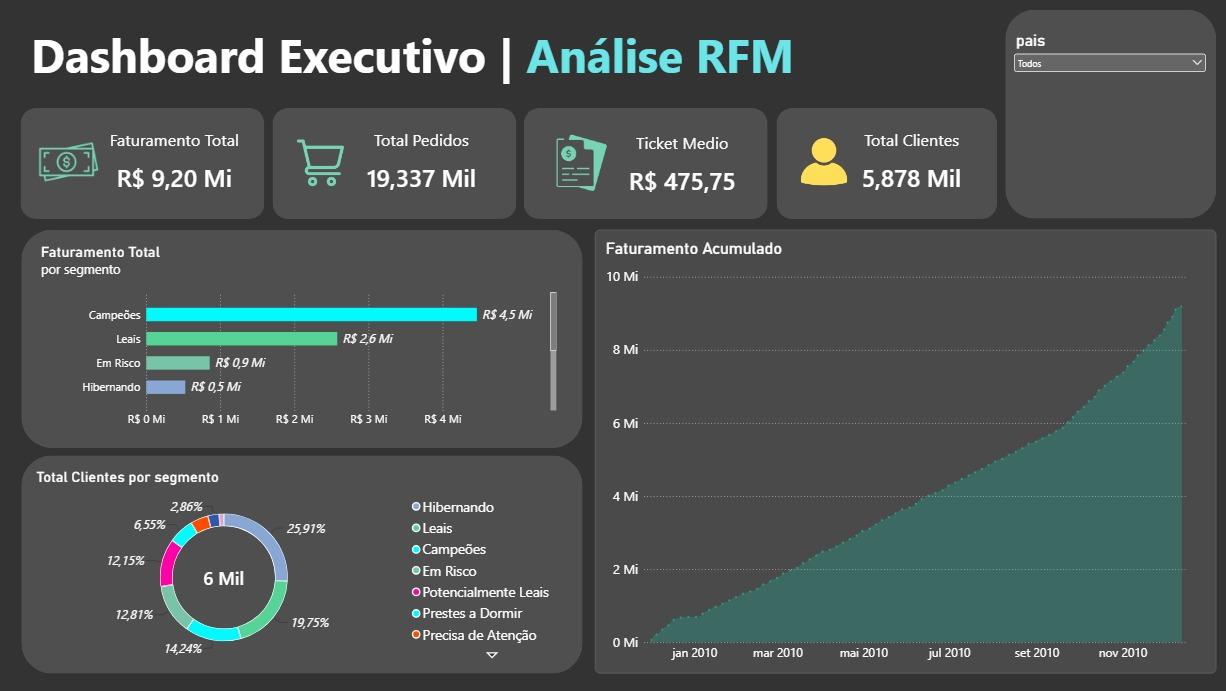

The page's visual inventory and layout, read from the dashboard file:
{"tool":"powerbi","page":{"name":"Página 1","canvas":[1920,1080],"ordinal":0},"visuals":[{"type":"shape","box":[35,168.3,381.7,173.3],"z":0},{"type":"cardVisual","fields":{"Data":["_Medidas.Faturamento Total"]},"box":[95,165,361.7,176.7],"z":1000},{"type":"image","box":[50,165,120,176.7],"z":2000},{"type":"shape","box":[1573.3,15,330,326.7],"z":3000},{"type":"shape","box":[428.3,168.3,381.7,173.3],"z":4000},{"type":"shape","box":[821.7,168.3,381.7,173.3],"z":5000},{"type":"shape","box":[1216.7,168.3,345,173.3],"z":6000},{"type":"lineChart","title":"Faturamento Acumulado","fields":{"Category":["db_ecommerce vw_vendas_temporais.data_venda"],"Y":["_Medidas.Faturamento Acumulado"]},"box":[932.1,358.5,971.7,694.3],"z":7000},{"type":"image","box":[428.3,186.7,150,136.7],"z":8000},{"type":"cardVisual","fields":{"Data":["_Medidas.Total Pedidos"]},"box":[481.7,165,361.7,176.7],"z":9000},{"type":"cardVisual","fields":{"Data":["_Medidas.Ticket Medio"]},"box":[888.3,168.3,361.7,176.7],"z":10000},{"type":"cardVisual","fields":{"Data":["_Medidas.Total Clientes"]},"box":[1282.7,165.4,290,176.7],"z":11000},{"type":"image","box":[821.7,201.7,181.7,106.7],"z":12000},{"type":"image","box":[1216.7,190,148.3,126.7],"z":13000},{"type":"shape","box":[35.8,358.5,877.4,341.5],"z":14000},{"type":"shape","box":[35.8,711.3,877.4,341.5],"z":15000},{"type":"clusteredBarChart","fields":{"Category":["db_ecommerce vw_rfm_executivo.segmento"],"Y":["_Medidas.Faturamento Total"]},"box":[50.9,366,837.7,322.6],"z":16000},{"type":"donutChart","fields":{"Category":["db_ecommerce vw_rfm_executivo.segmento"],"Y":["_Medidas.Total Clientes"]},"box":[43.4,718.9,869.8,328.3],"z":17000},{"type":"slicer","fields":{"Values":["db_ecommerce vw_vendas_temporais.pais"]},"box":[1582.7,48.1,309.4,258.5],"z":18000},{"type":"textbox","box":[36.5,36.5,1253.8,103.8],"z":18002}]}

Visuals, with their boxes in screenshot pixels (x1, y1, x2, y2), scaled from the page's 1920x1080 canvas onto the 1226x691 screenshot:
shape: l=22, t=108, r=266, b=219
cardVisual - _Medidas.Faturamento Total: l=61, t=106, r=292, b=219
image: l=32, t=106, r=109, b=219
shape: l=1005, t=10, r=1215, b=219
shape: l=273, t=108, r=517, b=219
shape: l=525, t=108, r=768, b=219
shape: l=777, t=108, r=997, b=219
"Faturamento Acumulado" lineChart: l=595, t=229, r=1216, b=674
image: l=273, t=119, r=369, b=207
cardVisual - _Medidas.Total Pedidos: l=308, t=106, r=539, b=219
cardVisual - _Medidas.Ticket Medio: l=567, t=108, r=798, b=221
cardVisual - _Medidas.Total Clientes: l=819, t=106, r=1004, b=219
image: l=525, t=129, r=641, b=197
image: l=777, t=122, r=872, b=203
shape: l=23, t=229, r=583, b=448
shape: l=23, t=455, r=583, b=674
clusteredBarChart - db_ecommerce vw_rfm_executivo.segmento x _Medidas.Faturamento Total: l=33, t=234, r=567, b=441
donutChart - db_ecommerce vw_rfm_executivo.segmento x _Medidas.Total Clientes: l=28, t=460, r=583, b=670
slicer - db_ecommerce vw_vendas_temporais.pais: l=1011, t=31, r=1208, b=196
textbox: l=23, t=23, r=824, b=90
